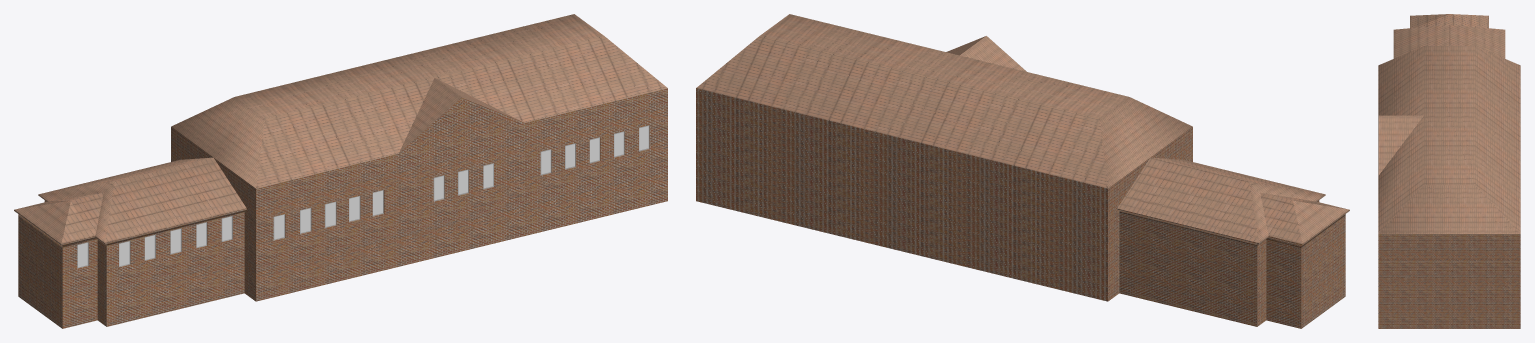
The model's file is bgbuilding.fbx.
3 views of the same model, side by side, from view 1: azimuth 30°, elevation 25°; view 2: azimuth 150°, elevation 25°; view 3: azimuth 270°, elevation 25° (orthographic). The views are drawn at different scales.
Parts seen in each view (by area): view 1: polySurface186, polySurface188, polySurface189, polySurface208; view 2: polySurface186, polySurface188; view 3: polySurface188, polySurface186.
Part boxes in pixels (box(x1,y1,x2,y2)): polySurface186: box(14, 88, 667, 328); polySurface188: box(14, 14, 667, 244); polySurface189: box(78, 126, 648, 267); polySurface208: box(77, 125, 649, 268); polySurface186: box(696, 88, 1349, 328); polySurface188: box(696, 14, 1349, 244); polySurface188: box(1378, 14, 1520, 233); polySurface186: box(1378, 89, 1520, 328).
Bounding box in the file's own units: 58.92 × 14.74 × 14.73.
